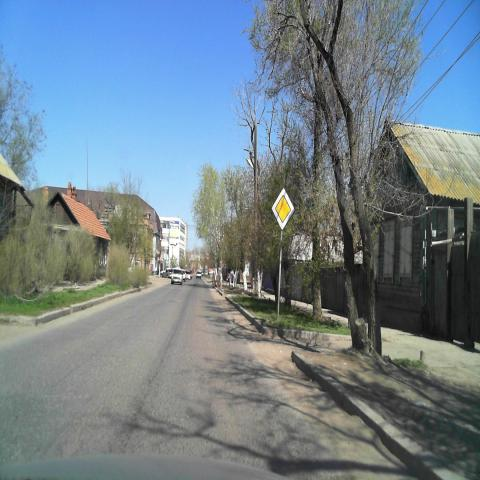2_1: (271, 187, 295, 231)
